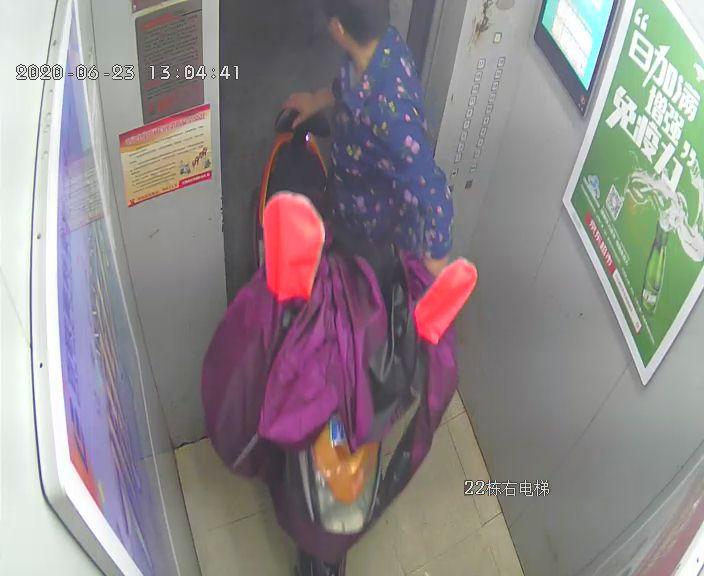Electric-bicycle: (255, 103, 423, 575)
